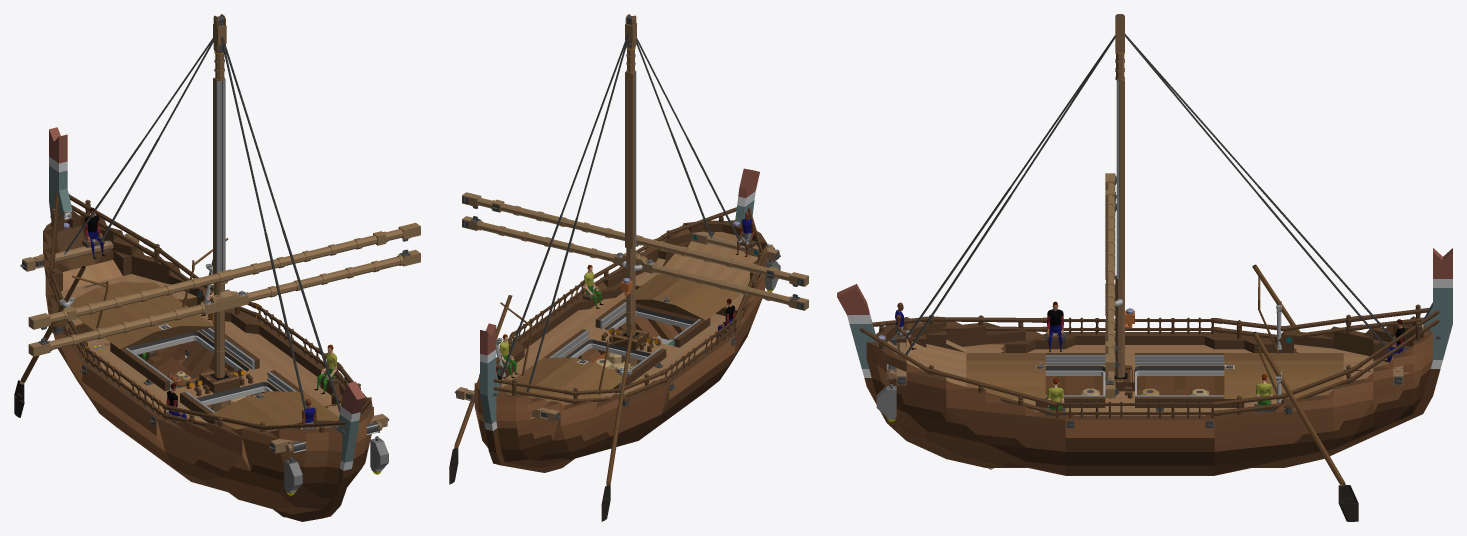
The model's file is mercante.glb.
The picture shows the model from 3 angles, left to right: view 1: azimuth 30°, elevation 25°; view 2: azimuth 150°, elevation 25°; view 3: azimuth 270°, elevation 25°; orthographic projection. The views are drawn at different scales.
Parts seen in each view (by area): view 1: Object_4; view 2: Object_4; view 3: Object_4.
Boxes of the visible parts, x1,y1,x2,y2 form: Object_4: (14,14,420,521); Object_4: (449,14,808,521); Object_4: (837,14,1452,521).
Size of the model in its own units: 11.25 by 12.88 by 15.5.
